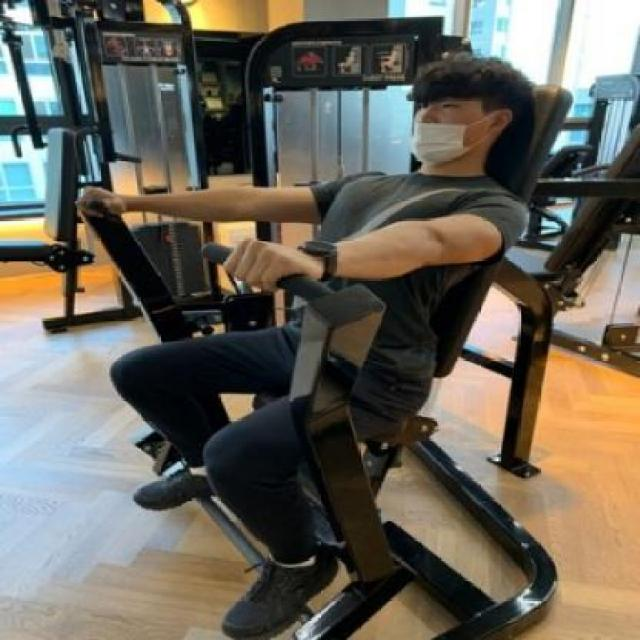Chest Press machine: (74, 12, 612, 640)
